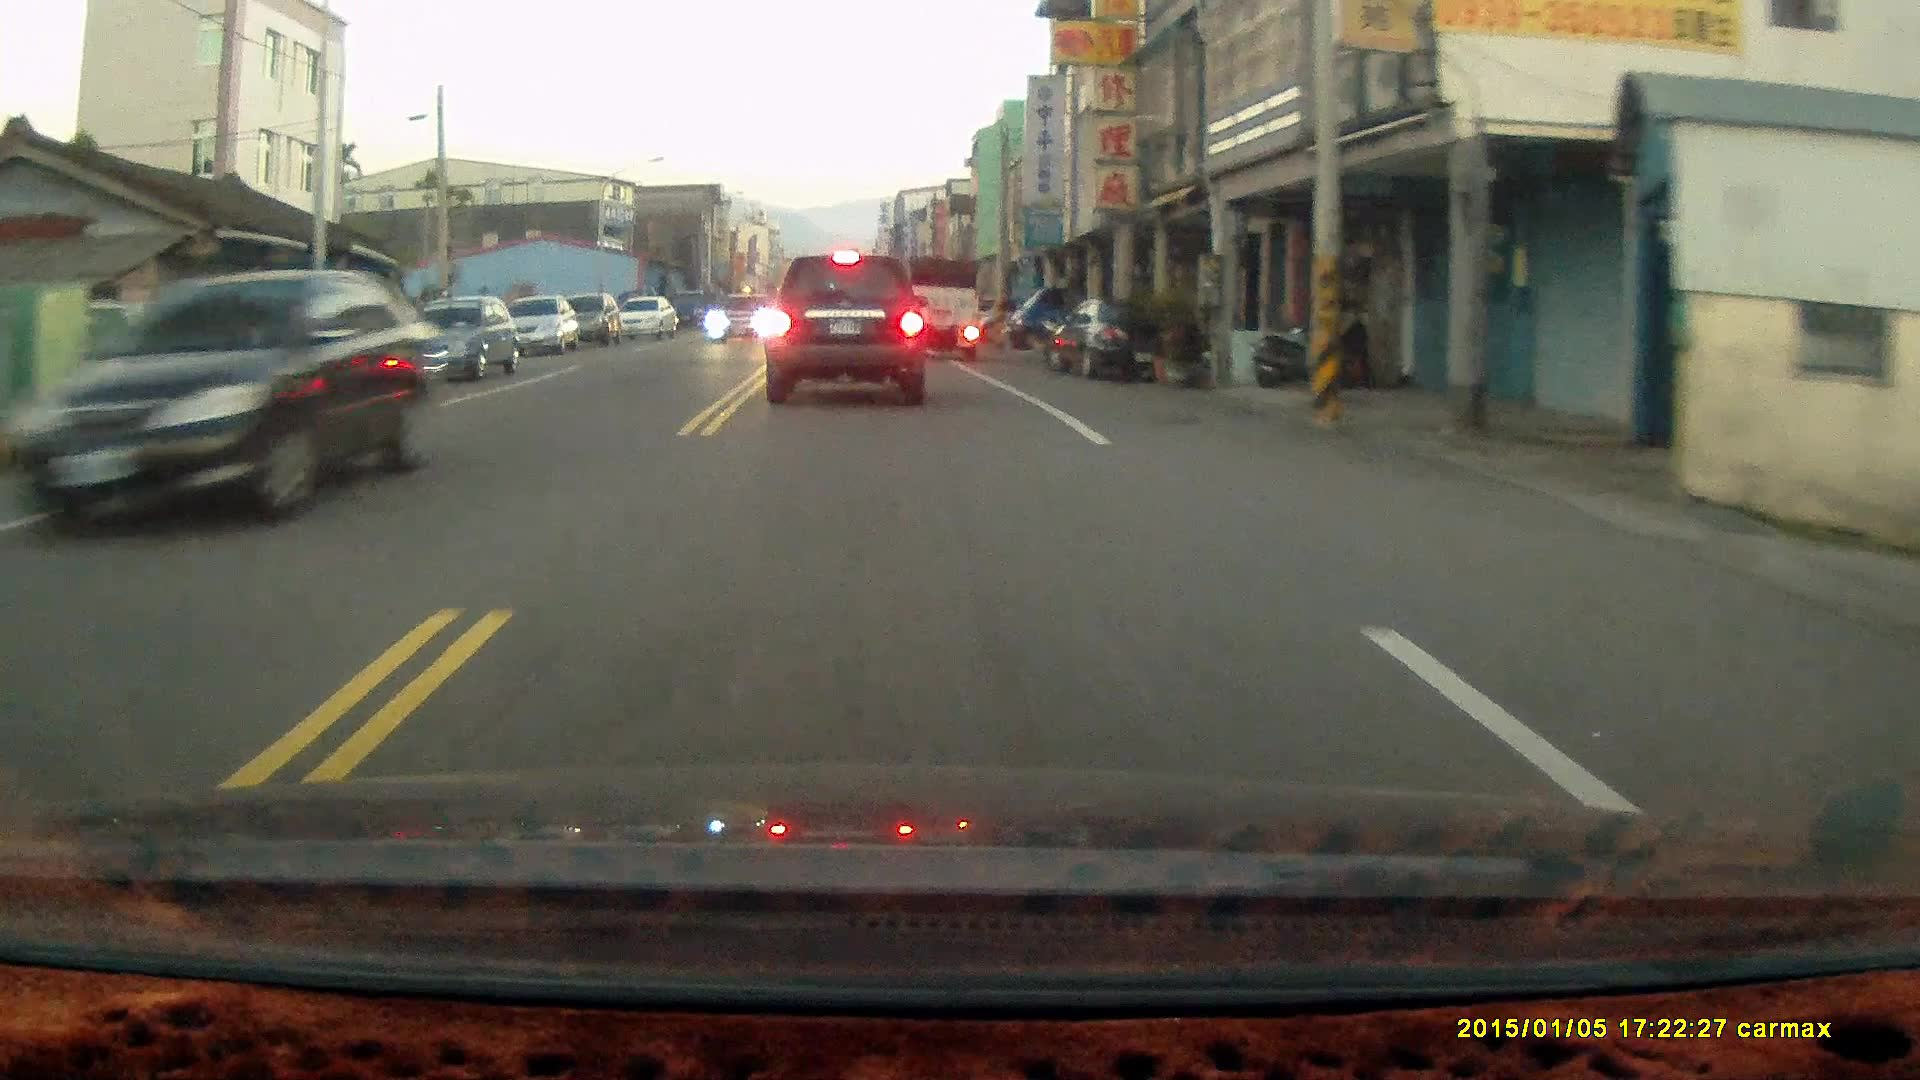vehicle: (25, 268, 434, 543), (764, 249, 928, 406), (1050, 295, 1189, 378), (394, 294, 521, 382), (898, 256, 986, 365), (1007, 280, 1117, 351), (502, 294, 579, 353), (551, 291, 624, 344), (705, 291, 778, 343), (615, 295, 680, 340)
